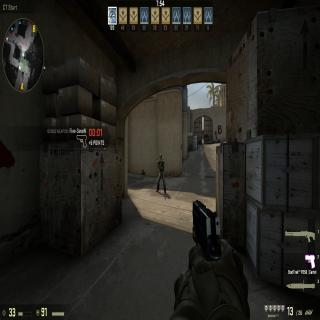T-Body: (156, 153, 166, 192)
T-Head: (158, 154, 162, 162)
